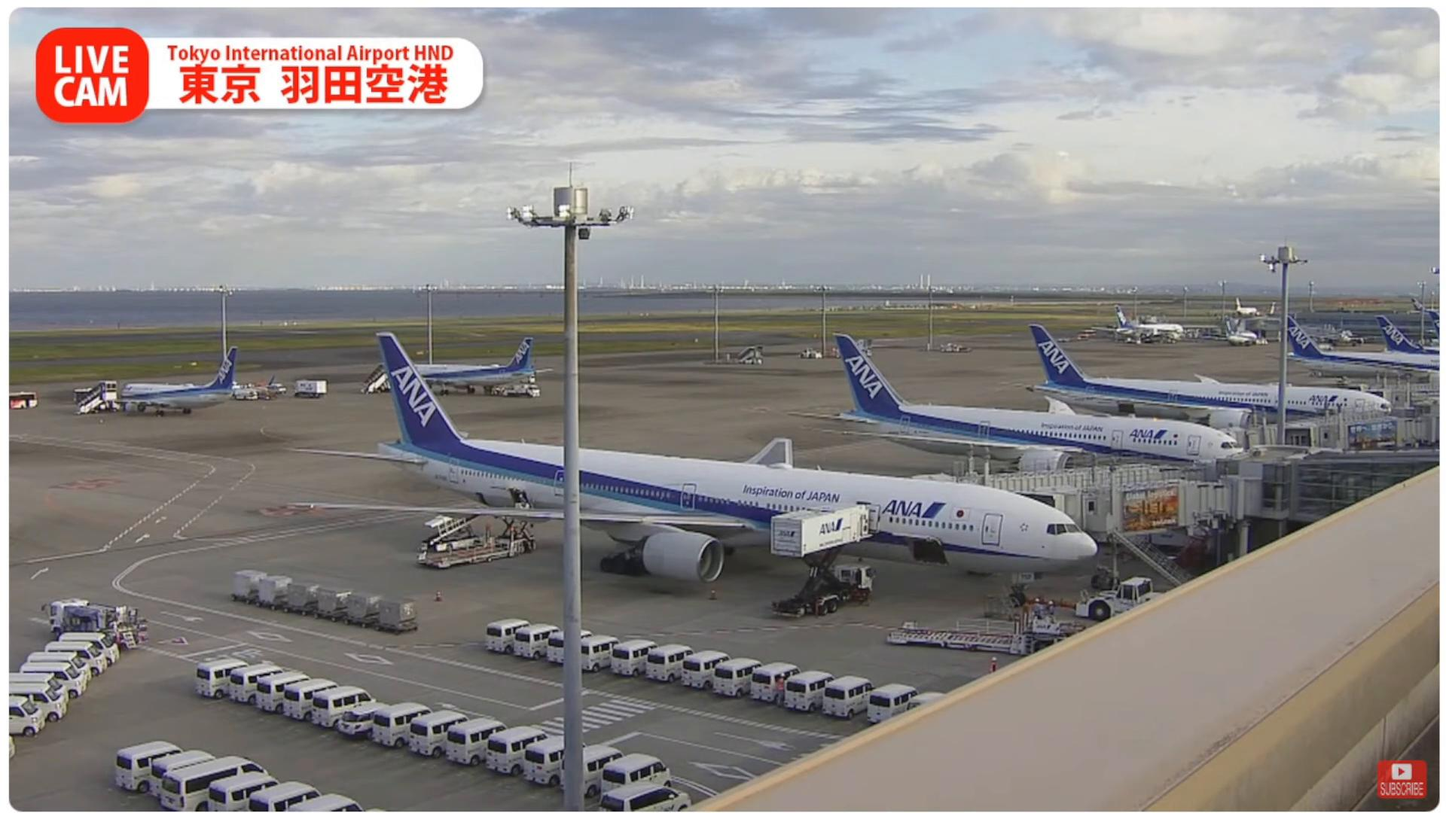APS: (1079, 573, 1169, 620)
Aerobridge: (937, 438, 1217, 490), (1025, 480, 1229, 535)
Airplane: (279, 328, 1098, 610)
Catering: (770, 502, 878, 618)
Dolly: (232, 585, 412, 637)
JCPL: (412, 519, 535, 572), (936, 618, 1078, 654)
Skyloader: (416, 502, 490, 546)
Window: (1286, 455, 1435, 523)
